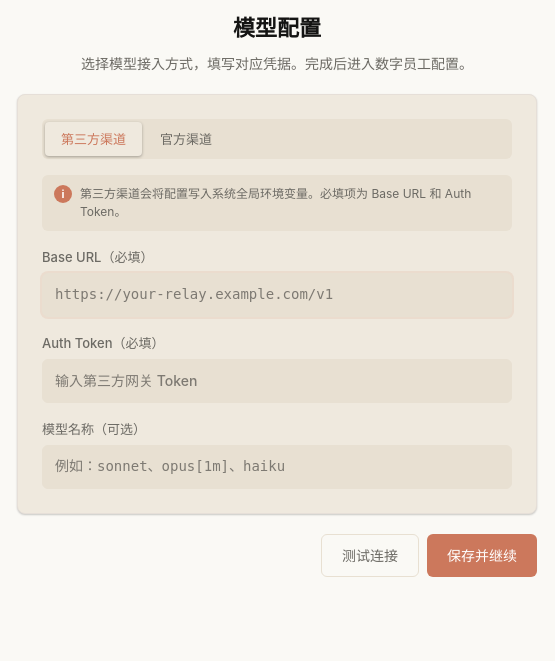
Test: ModelConfig Page › Test connection › shows success message when test passes
Type "https://example.com/v1" into the field with placeholder "https://your-relay.example.com/v1" at x=277, y=295, box [42,273,512,317]
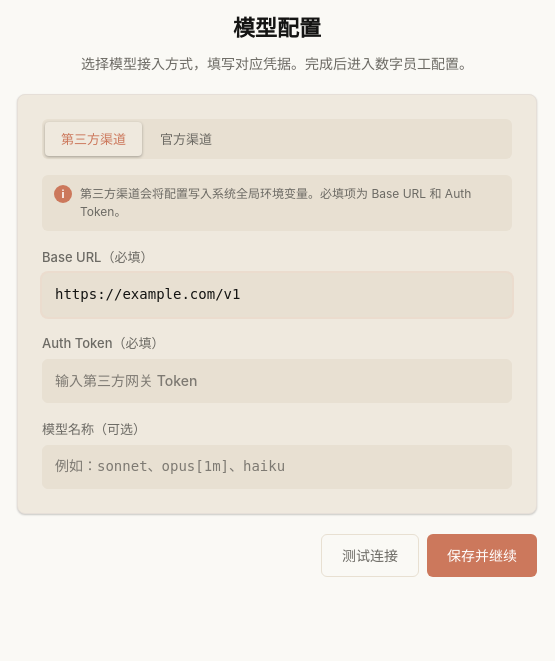
Type "test-token" into the password field with placeholder "输入第三方网关 Token" at x=277, y=381, box [42,359,512,403]
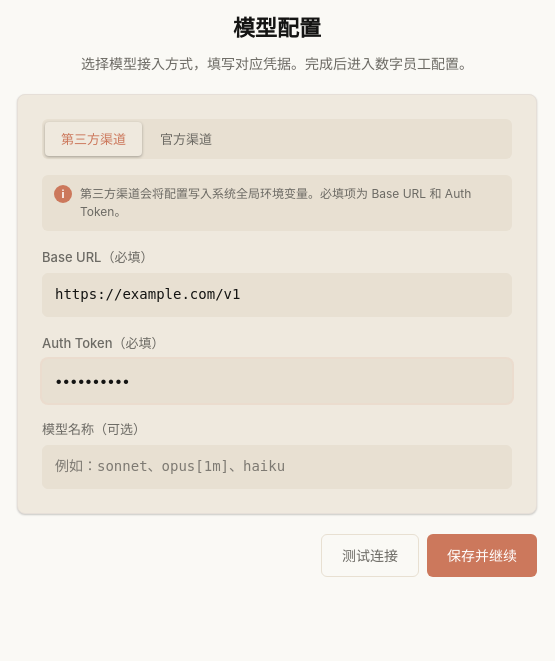
Click the button "测试连接" at x=370, y=556, box [321,534,419,577]
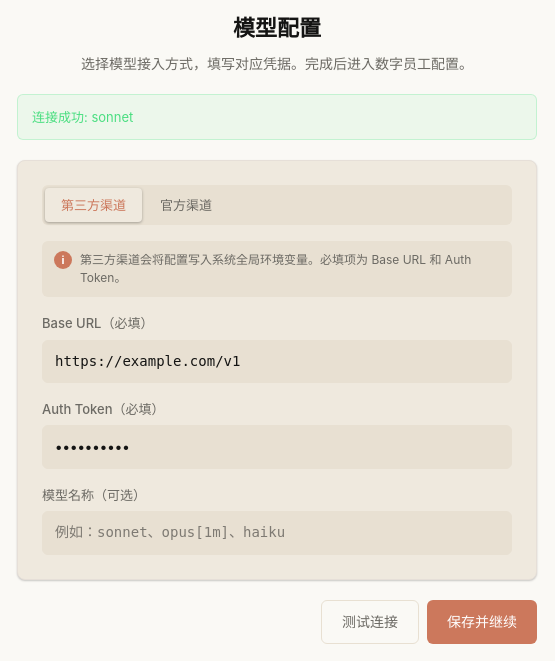
Result: the text "连接成功: sonnet" is shown at [17,94,537,140]
